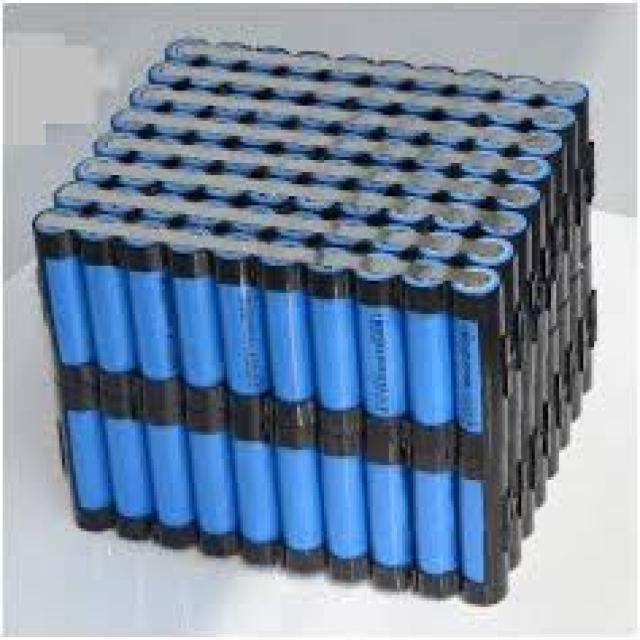battery: (39, 33, 597, 607)
